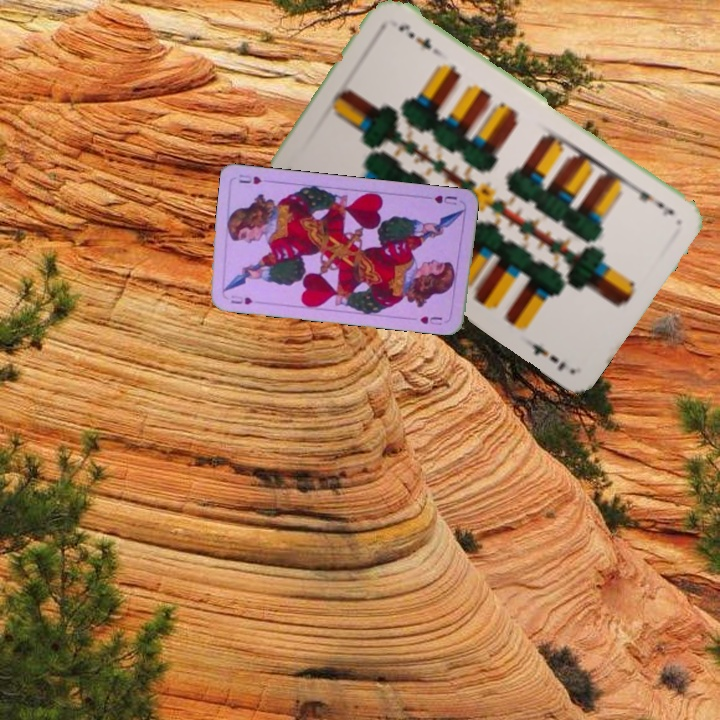E7: (631, 180, 677, 219)
HU: (422, 191, 460, 208), (226, 291, 255, 307)
